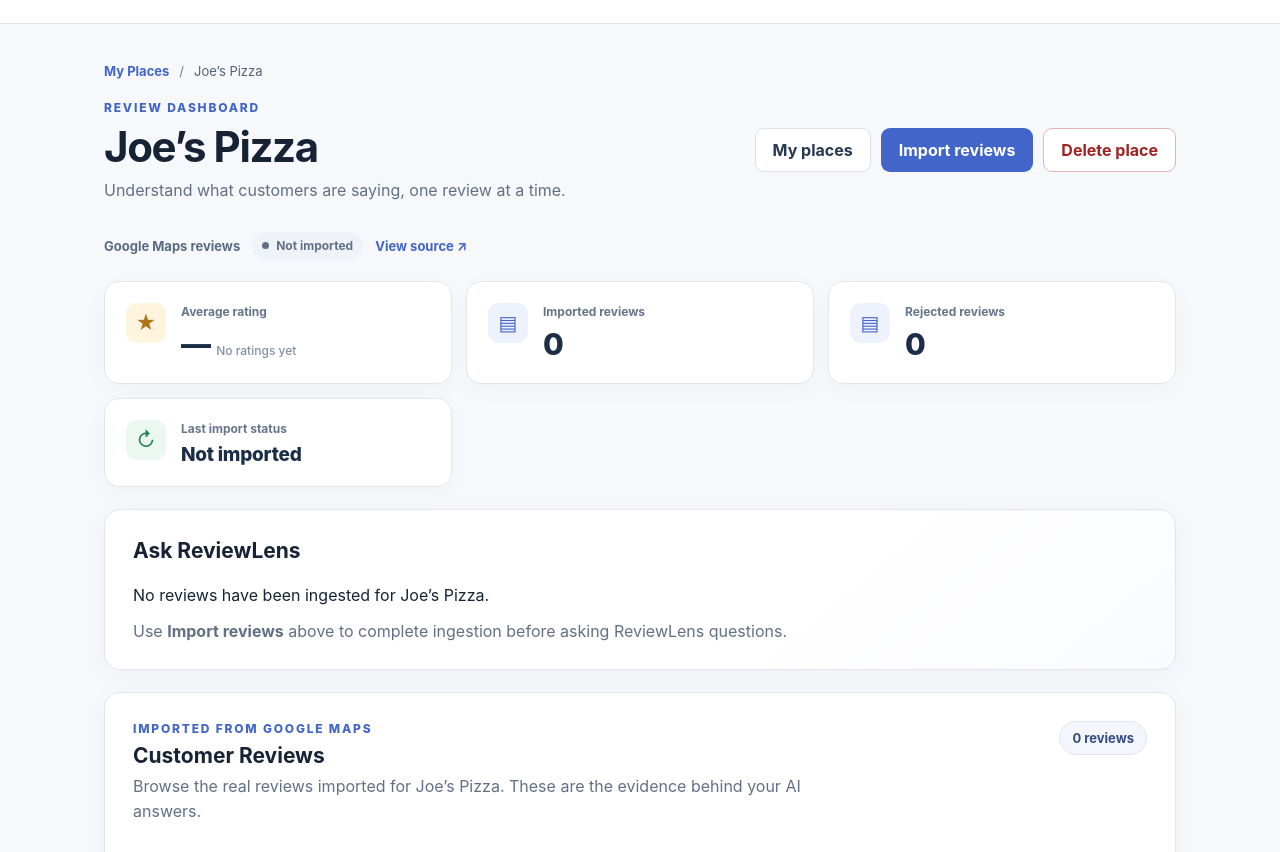
App › refreshes the selected place after successful review ingestion
The image size is (1280, 852).
Check: the element named "ReviewLens unavailable" is shown, box [104, 509, 1176, 670]
Click the button "Import reviews": (957, 150) [881, 128, 1033, 172]
(page scrolled)
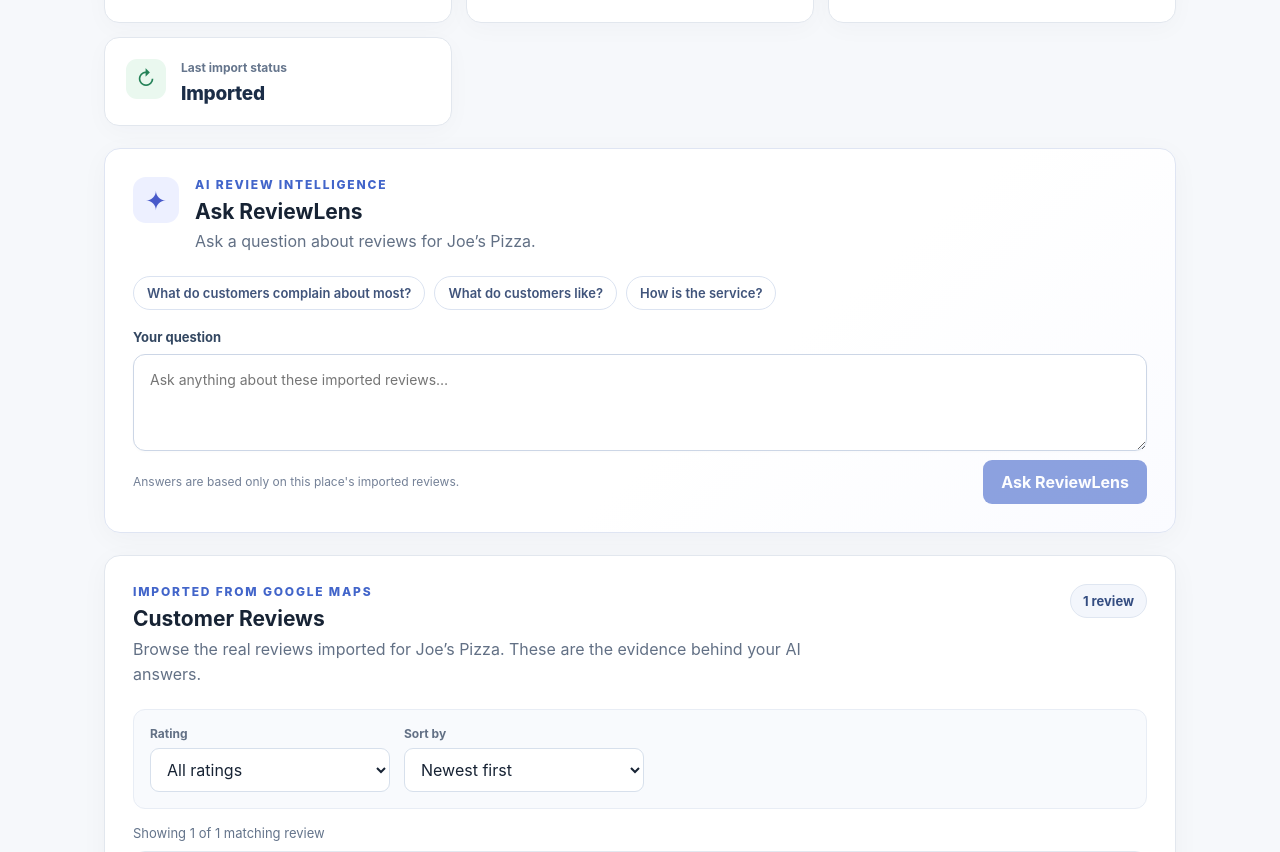
Check: the text box labelled "Your question" is enabled, box [133, 354, 1147, 451]
